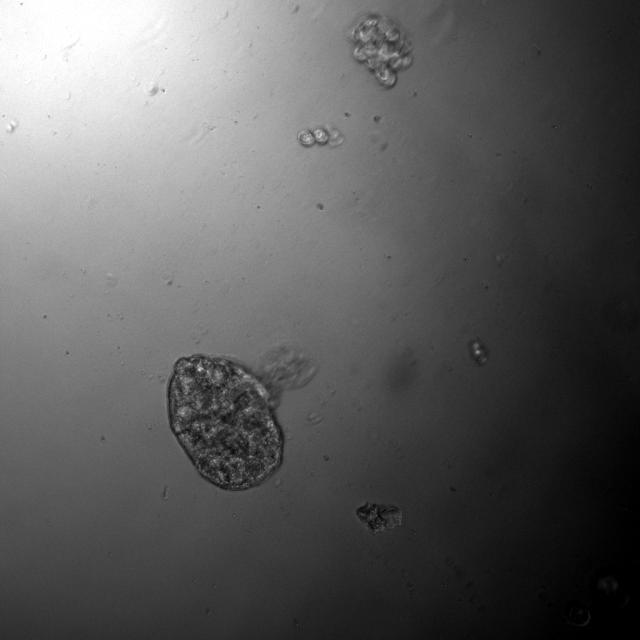organoid: (168, 344, 316, 491), (351, 13, 412, 87), (356, 502, 401, 533), (296, 126, 344, 148), (564, 601, 589, 626), (469, 339, 488, 364)
